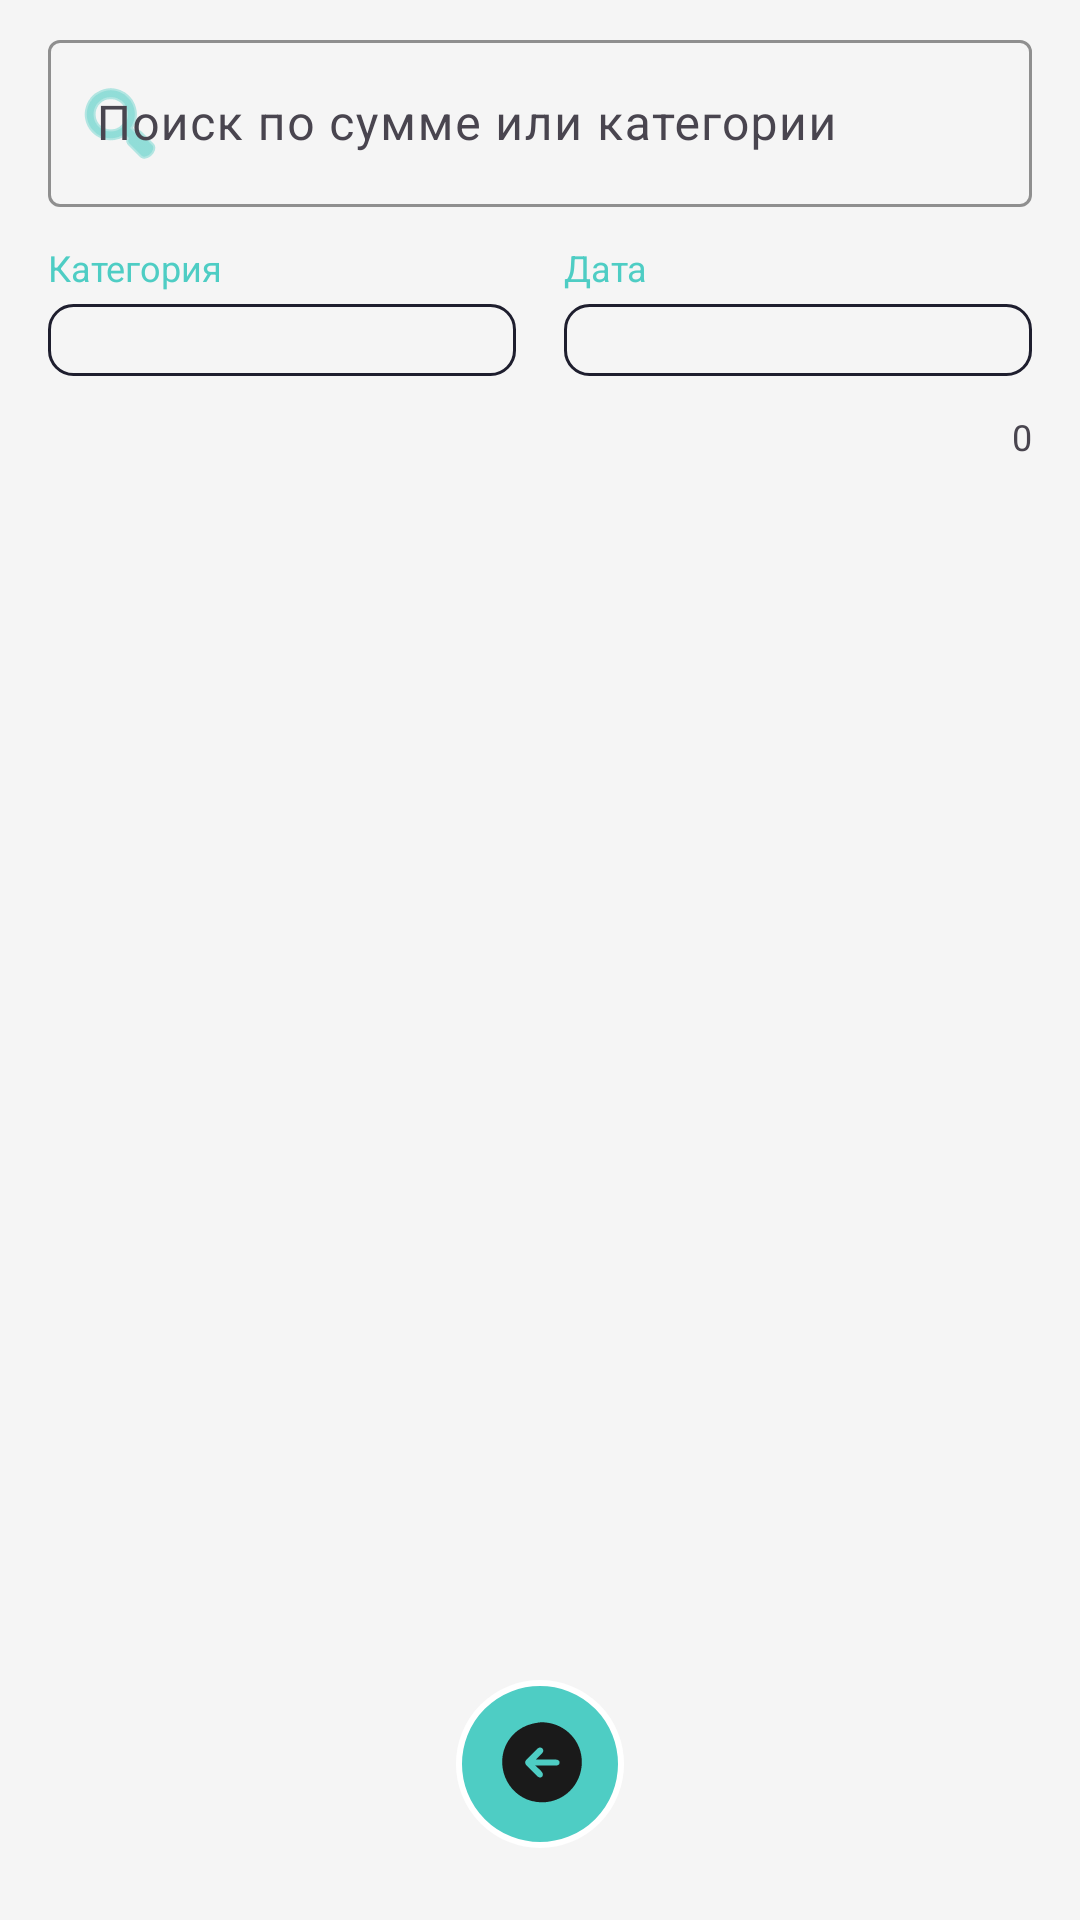

Screen size 1080w x 1920h. Icon name, then its box in pixels as bbox=[x1, y1, x2, y2]:
Отмена: bbox=[462, 1686, 618, 1842]
